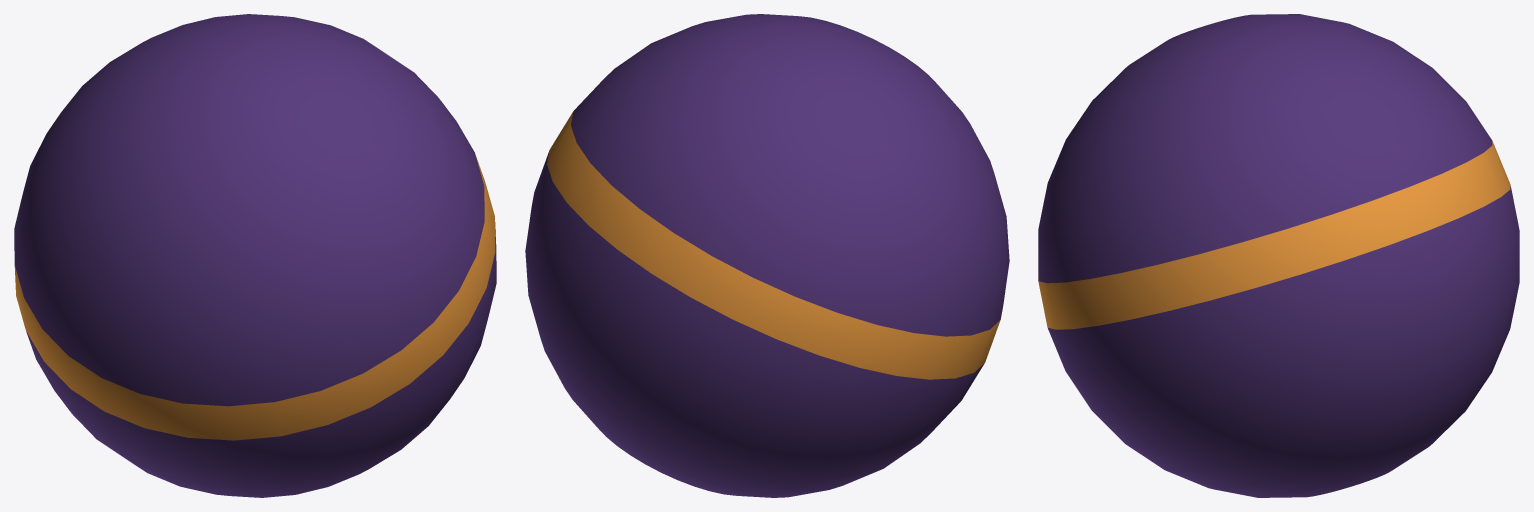
The model's file is Ball_New.fbx.
3 renders of one model, left to right at view 1: azimuth 30°, elevation 25°; view 2: azimuth 150°, elevation 25°; view 3: azimuth 270°, elevation 25°, orthographic.
Parts seen in each view (by area): view 1: BallNew; view 2: BallNew; view 3: BallNew.
Boxes of the visible parts, x1,y1,x2,y2 form: BallNew: (14,14,496,497); BallNew: (525,14,1009,497); BallNew: (1038,14,1519,497).
Size of the model in its own units: 50.67 by 50.75 by 50.35.
